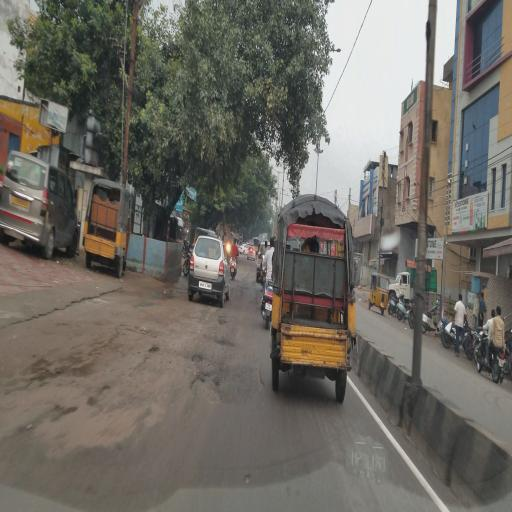street_light_0: (328, 36, 346, 70)
